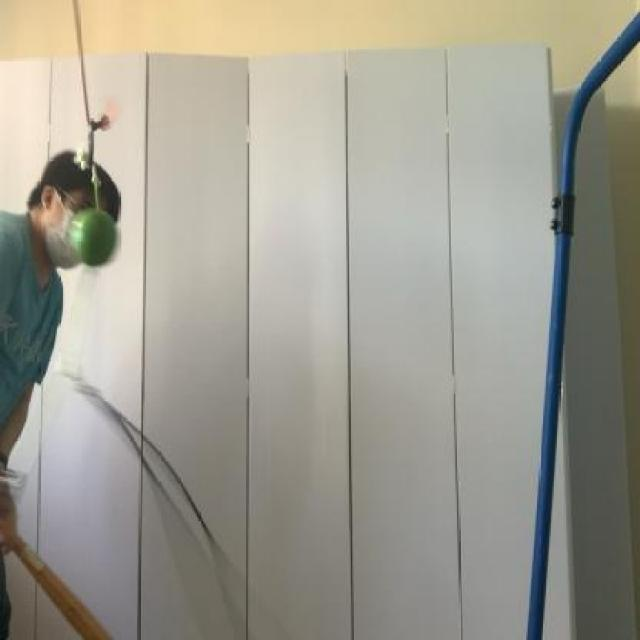baseball: (68, 206, 128, 266)
